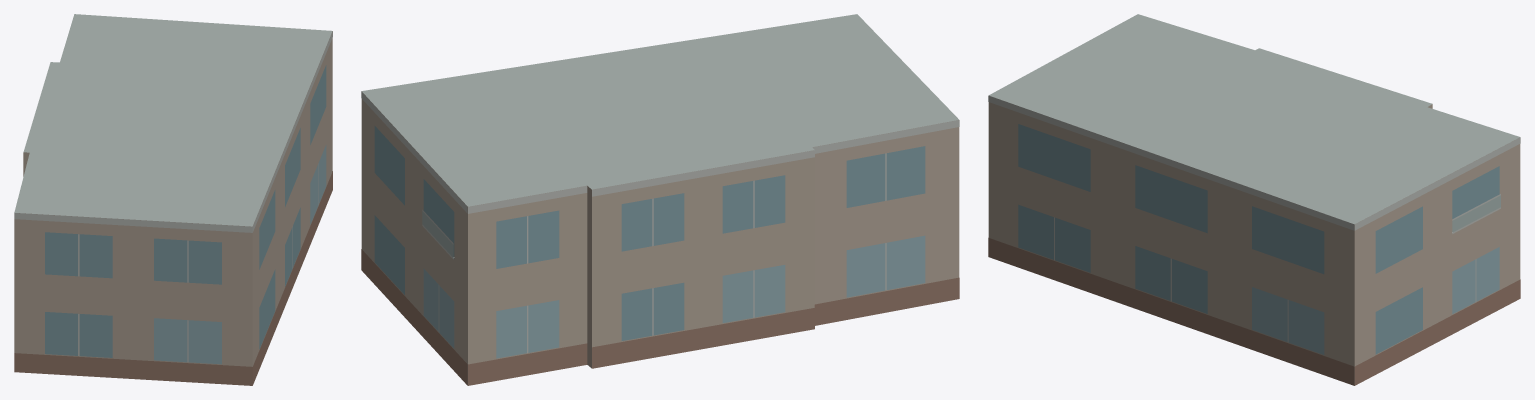
Rendered from survey-upis-33042455.glb.
3 renders of one model, left to right at view 1: azimuth 30°, elevation 25°; view 2: azimuth 150°, elevation 25°; view 3: azimuth 270°, elevation 25°, orthographic. The views are drawn at different scales.
Visible parts, largest first — view 1: survey-upis-33042455.tmp; view 2: survey-upis-33042455.tmp; view 3: survey-upis-33042455.tmp.
Boxes of the visible parts, box(x1,y1,x2,y2) form: survey-upis-33042455.tmp: box(14, 14, 332, 385); survey-upis-33042455.tmp: box(361, 14, 959, 385); survey-upis-33042455.tmp: box(988, 14, 1520, 385).
Bounding box in the file's own units: 17.04 × 6.1 × 18.21.
